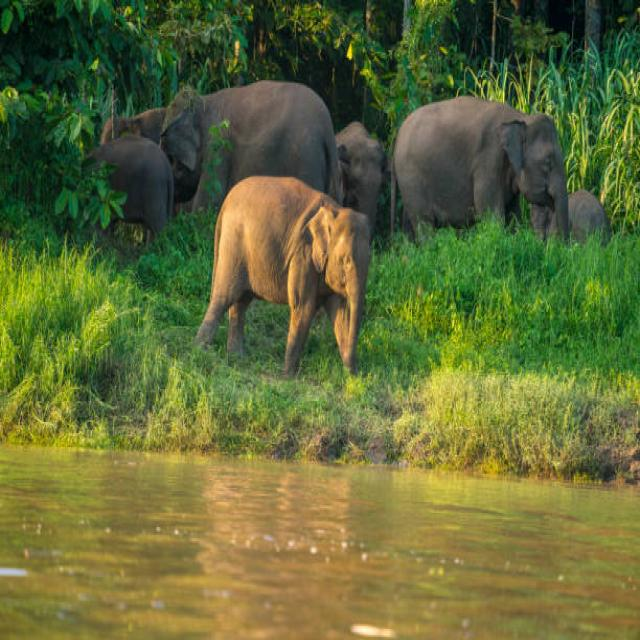Elephant: (203, 170, 373, 392), (390, 90, 572, 264), (158, 75, 342, 190), (76, 123, 176, 245), (329, 123, 396, 225), (564, 178, 618, 276)
